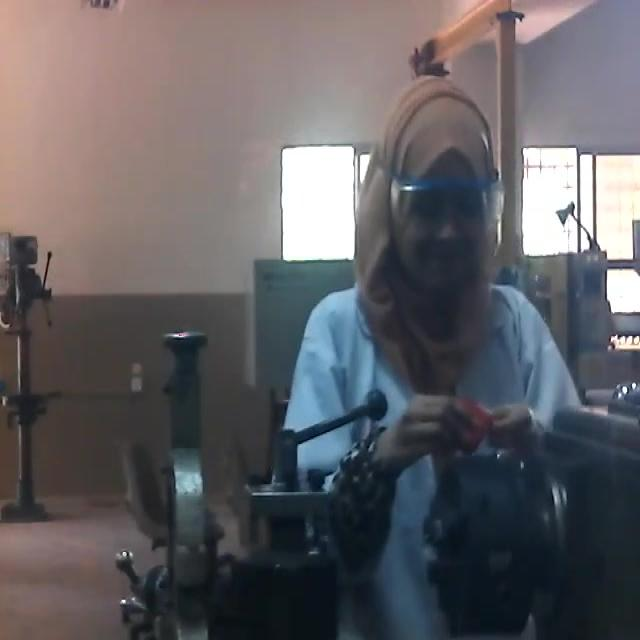googles: (387, 165, 508, 238)
labcoat: (281, 264, 593, 640)
